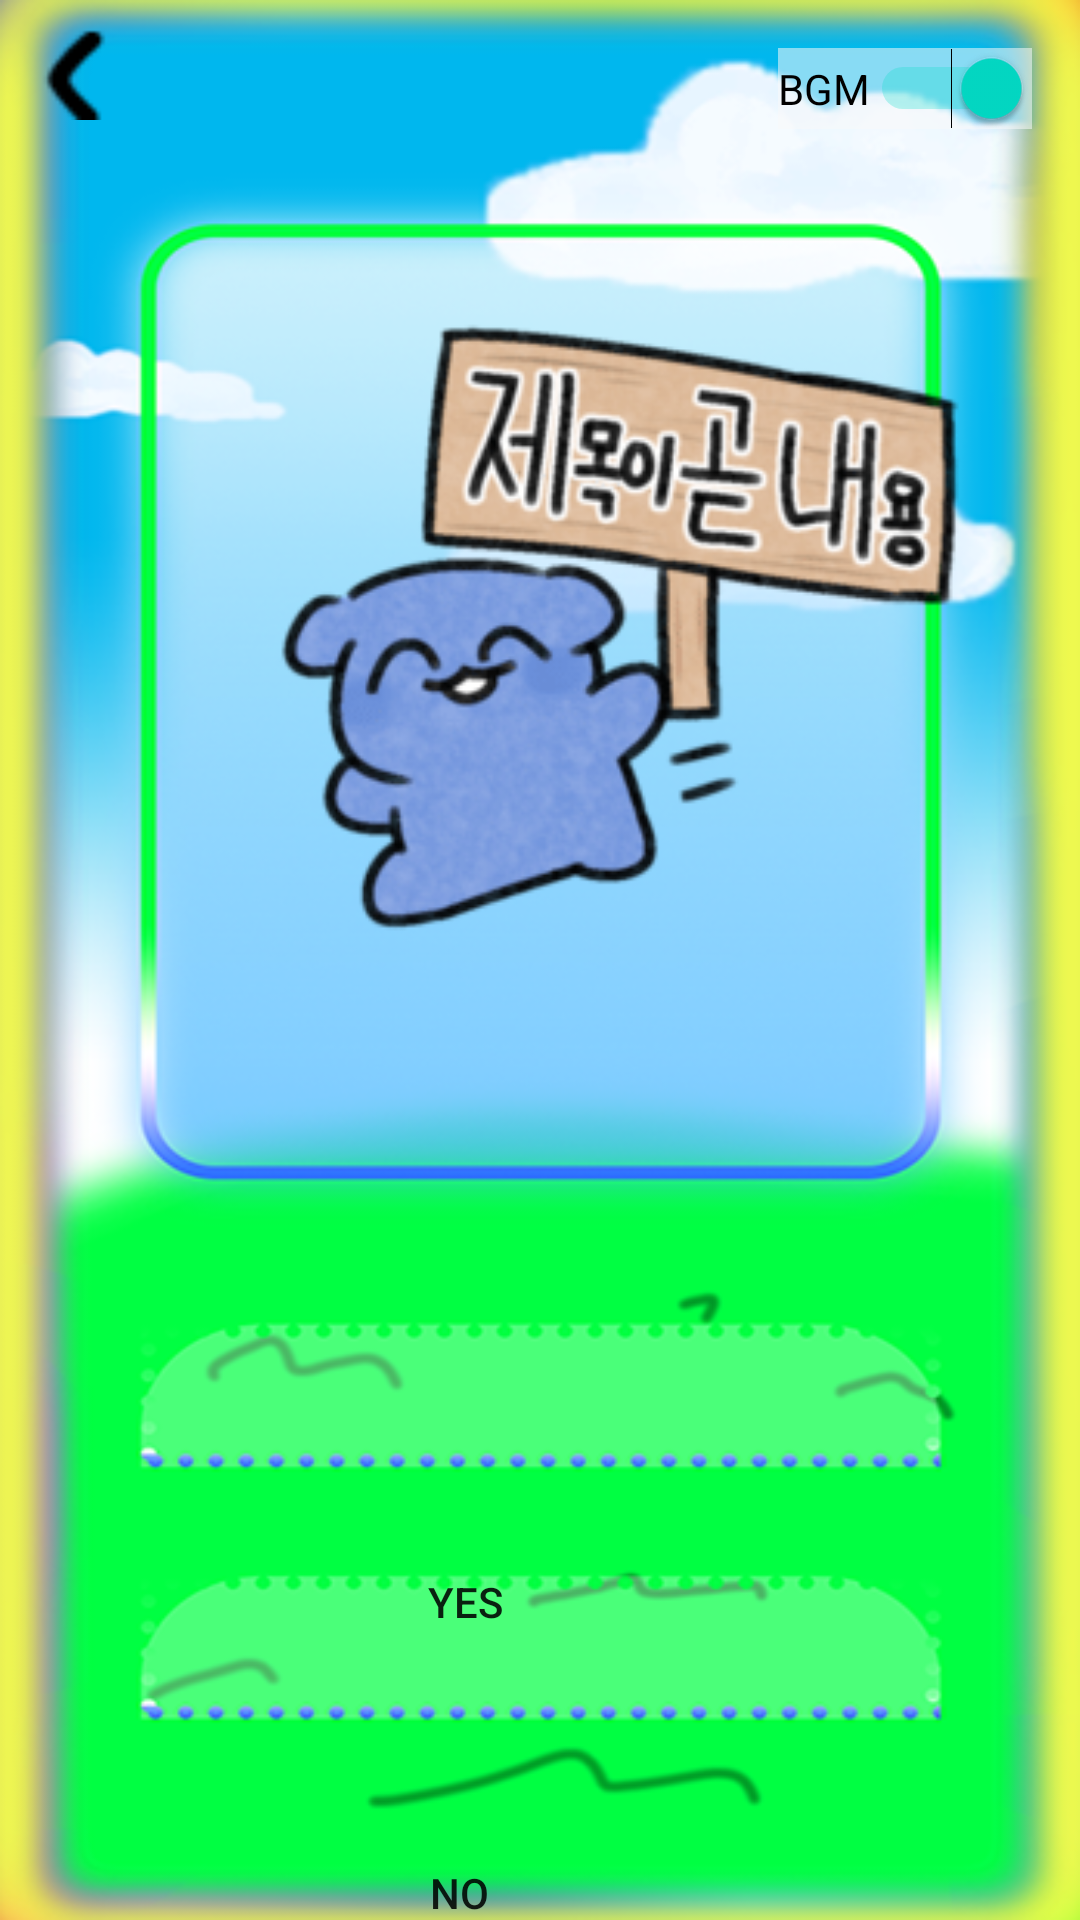

Named icons in this screenshot (1080×1920) and their centers, (x=x, y=y):
arrow: (x=60, y=60)
